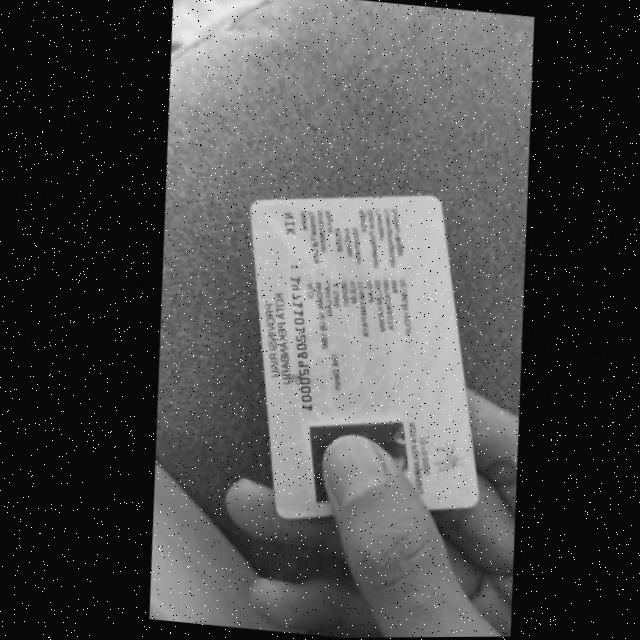card: (250, 196, 477, 517)
